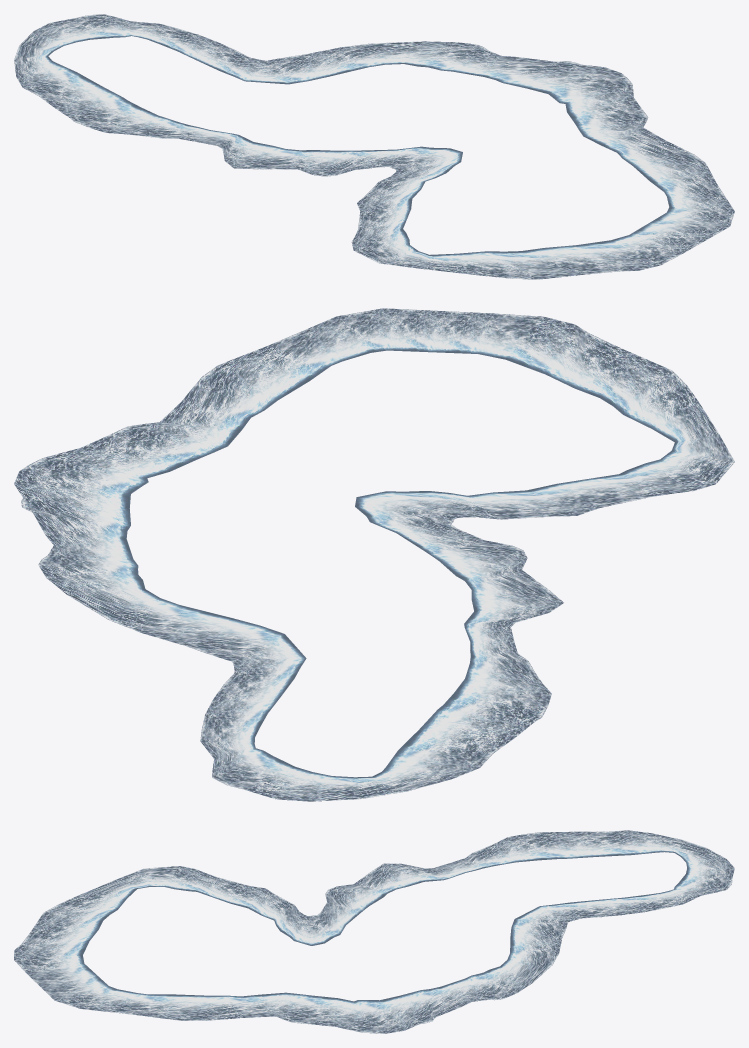
Rendered from snow_island_09_coast.fbx.
3 renders of one model, top to bottom at view 1: azimuth 30°, elevation 25°; view 2: azimuth 150°, elevation 25°; view 3: azimuth 270°, elevation 25°, orthographic. The views are drawn at different scales.
Visible parts, largest first — view 1: snow_island_09_coast; view 2: snow_island_09_coast; view 3: snow_island_09_coast.
Boxes of the visible parts, box(x1,y1,x2,y2) form: snow_island_09_coast: box(14, 14, 734, 279); snow_island_09_coast: box(14, 308, 734, 801); snow_island_09_coast: box(14, 830, 734, 1033).
Bounding box in the file's own units: 0.7098 × 3.5e-17 × 1.06.
